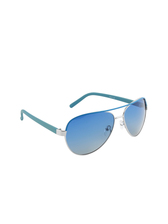glasses: (18, 91, 153, 155)
